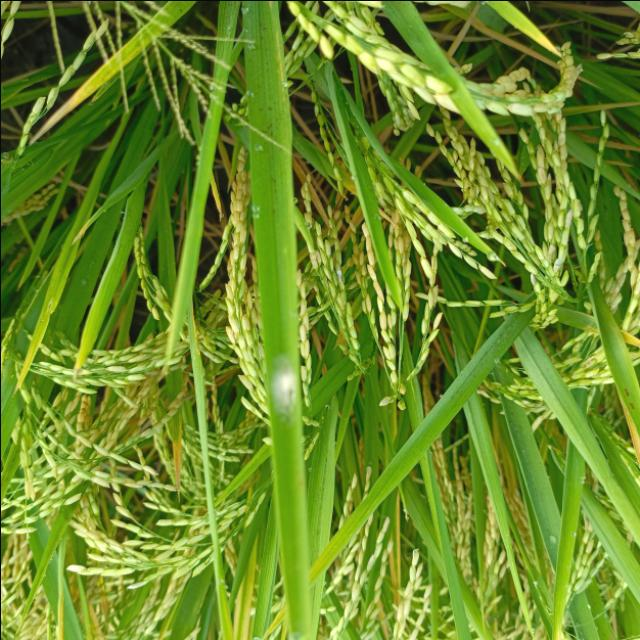brown spot: (626, 399, 636, 412), (620, 384, 630, 397)
